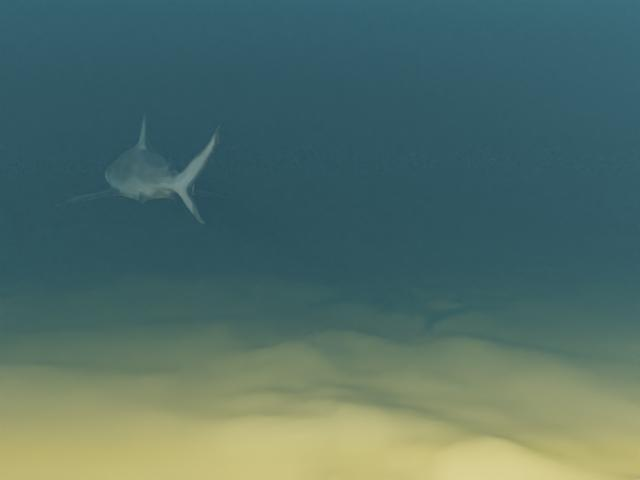Carribean Shark.001: (55, 113, 229, 224)
